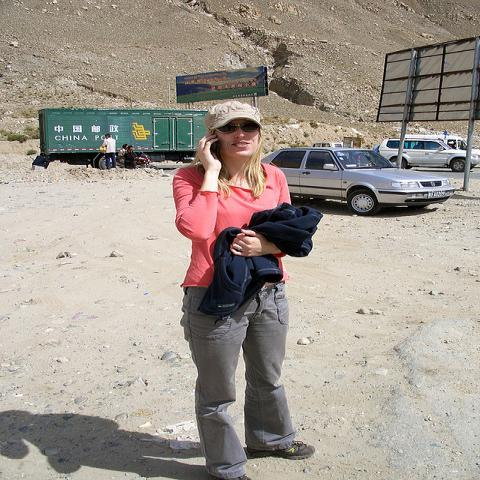car: (261, 148, 456, 216), (375, 138, 479, 172)
truck: (30, 107, 210, 169), (405, 134, 468, 150)
